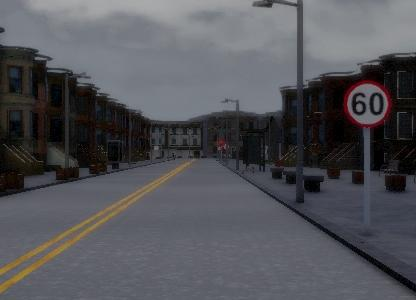Speed_60: (342, 75, 393, 128)
